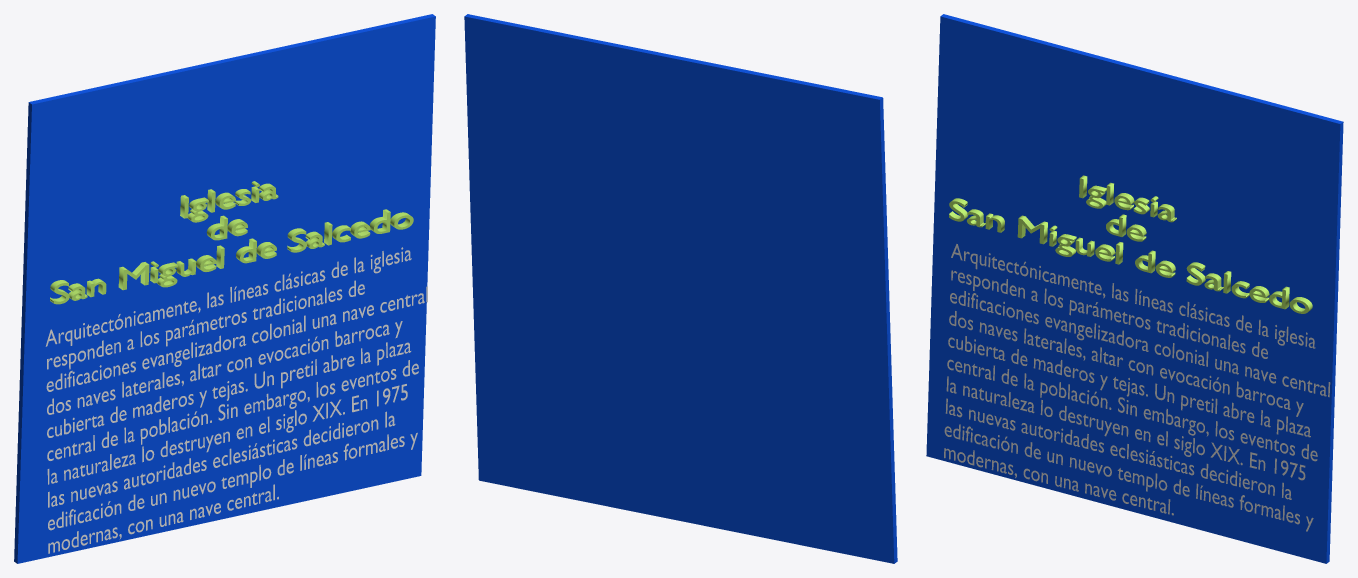
File: Iglesia.glb
The picture shows the model from 3 angles, left to right: view 1: azimuth 30°, elevation 25°; view 2: azimuth 150°, elevation 25°; view 3: azimuth 330°, elevation 25°; orthographic projection. The views are drawn at different scales.
Parts seen in each view (by area): view 1: Cube, Texto.001, Texto; view 2: Cube; view 3: Cube, Texto.001, Texto.
Part boxes in pixels (box(x1,y1,x2,y2)): Cube: box(14, 14, 435, 563); Texto.001: box(45, 247, 427, 553); Texto: box(50, 181, 413, 304); Cube: box(464, 14, 897, 563); Cube: box(926, 14, 1343, 563); Texto.001: box(944, 244, 1330, 531); Texto: box(949, 175, 1312, 313).
Size of the model in its own units: 1.22 by 1.3 by 0.0696.
